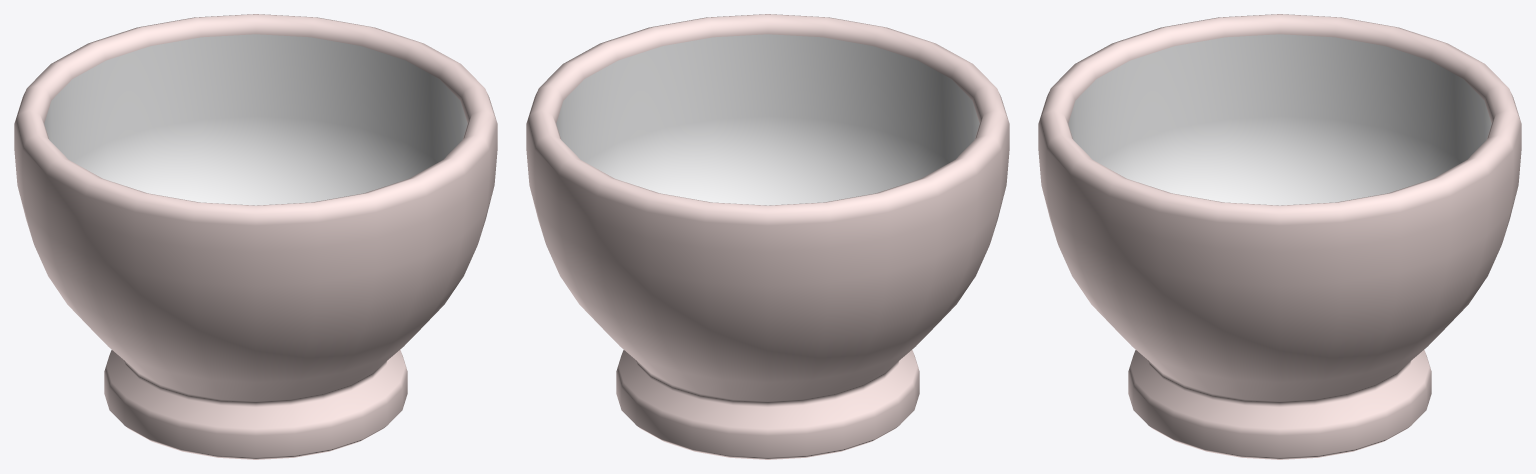
The model's file is bowl.glb.
3 views of the same model, side by side, from view 1: azimuth 30°, elevation 25°; view 2: azimuth 150°, elevation 25°; view 3: azimuth 270°, elevation 25° (orthographic).
Visible parts, largest first — view 1: Bowl; view 2: Bowl; view 3: Bowl.
Part boxes in pixels (left/top/right/bottom): Bowl: left=14, top=14, right=497, bottom=459; Bowl: left=526, top=14, right=1009, bottom=459; Bowl: left=1038, top=14, right=1521, bottom=459.
Size of the model in its own units: 0.308 by 0.2023 by 0.308.
1 material, 1 textured.
